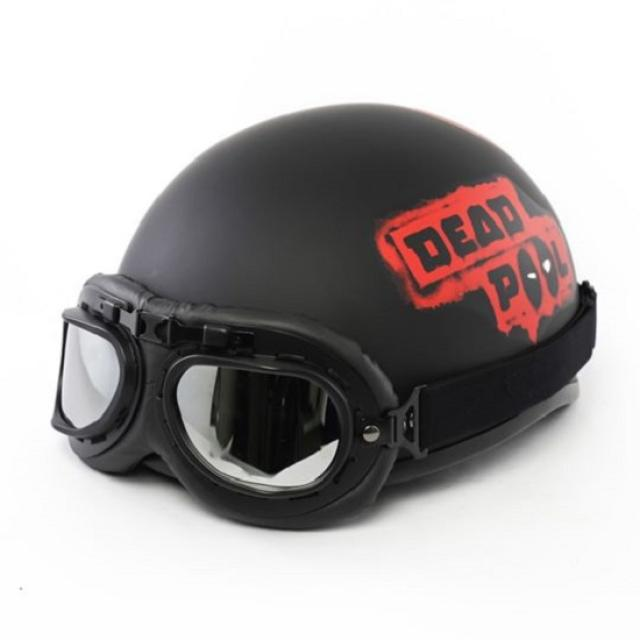Helmet: (40, 84, 604, 538)
